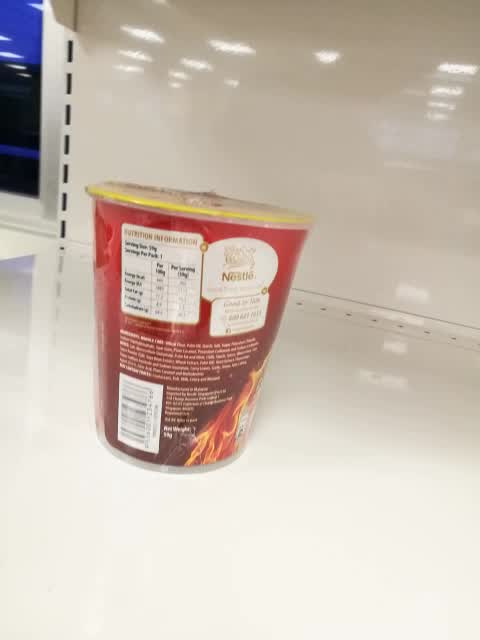maggi: (85, 179, 320, 475)
